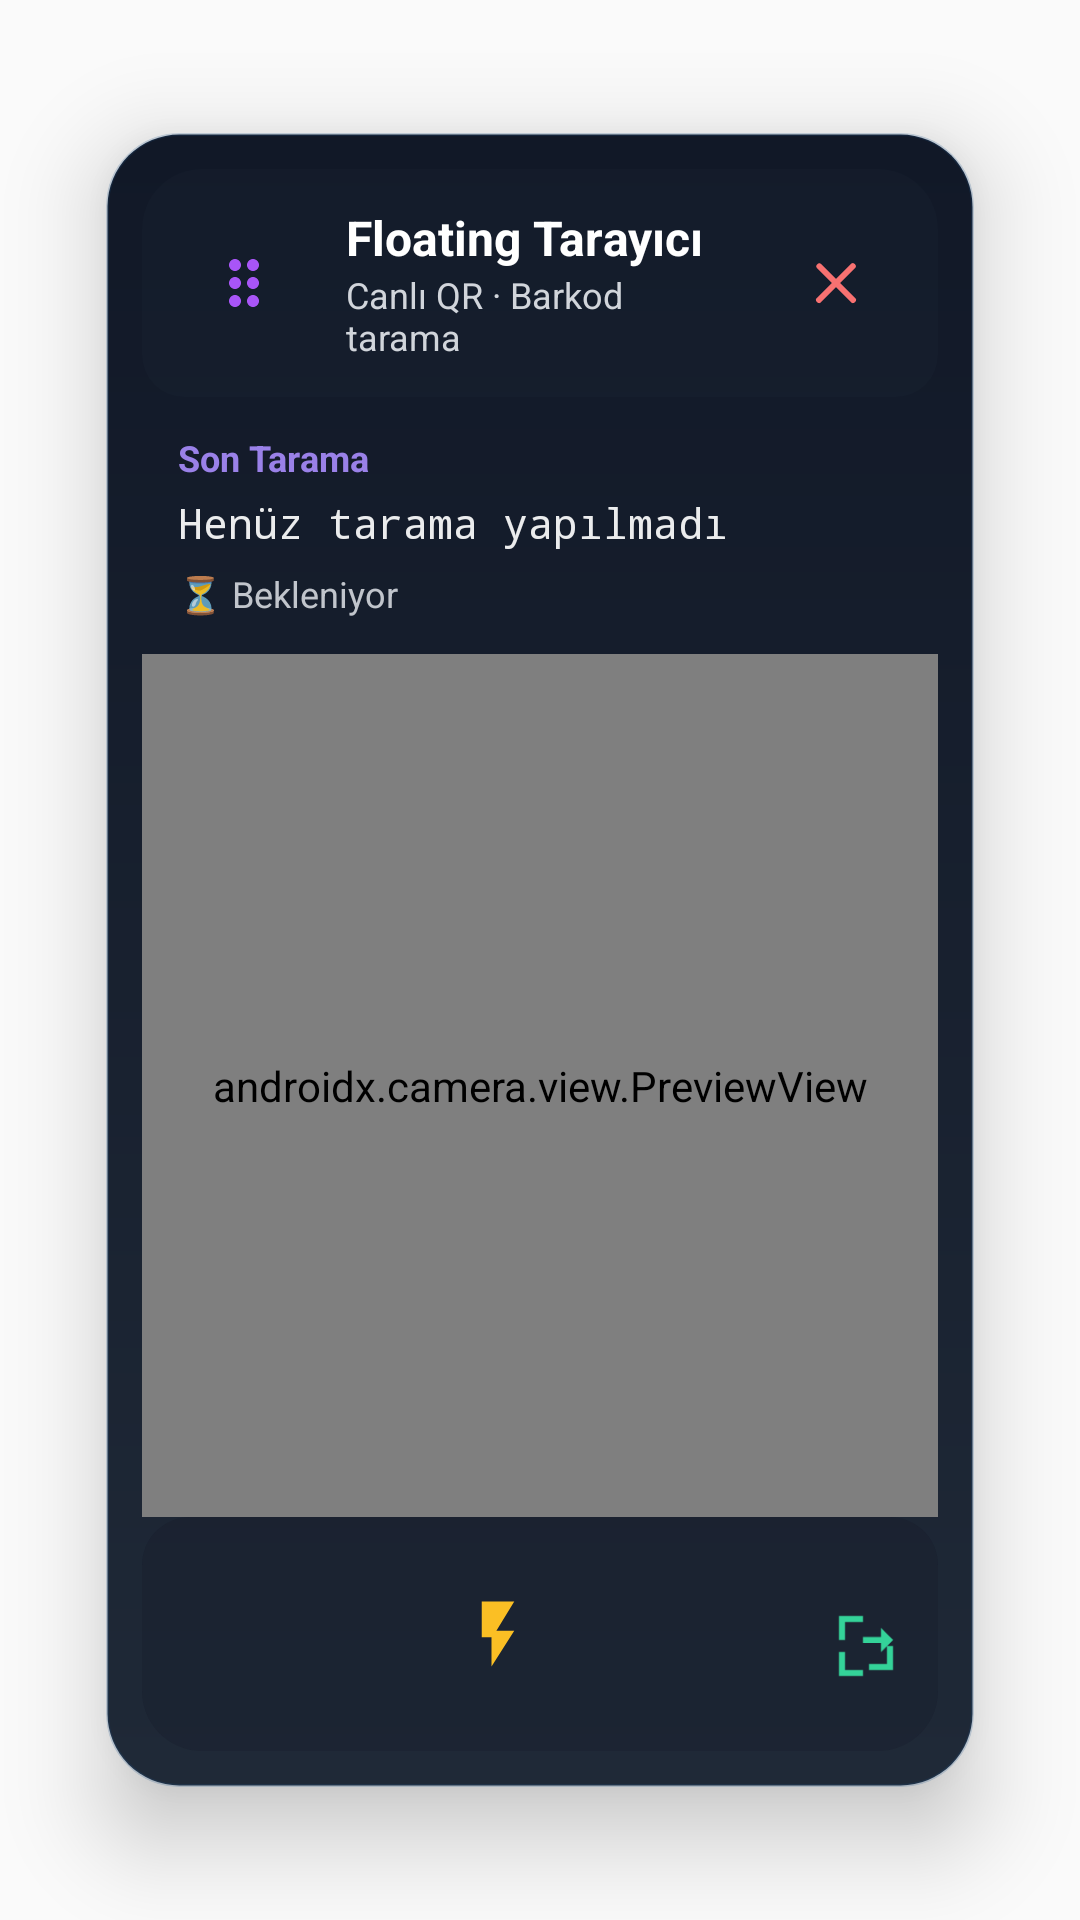

Icon bounding boxes for this 1080×1920 phone screenshot, format (x1, y1, x2, y2):
Flash: (481, 1601, 514, 1666)
Kapat: (816, 263, 856, 303)
Taşı: (229, 259, 259, 307)
